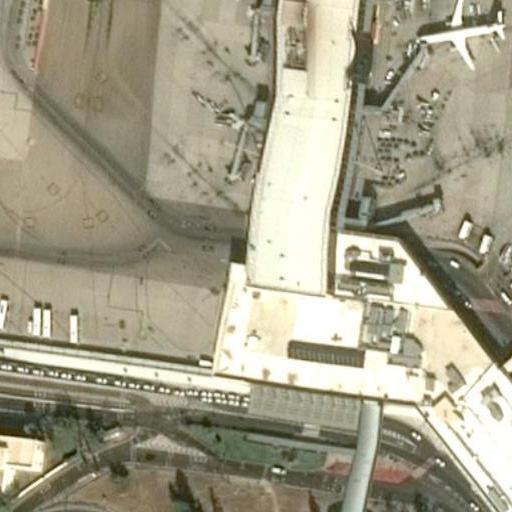Aircraft: (413, 0, 510, 72)
